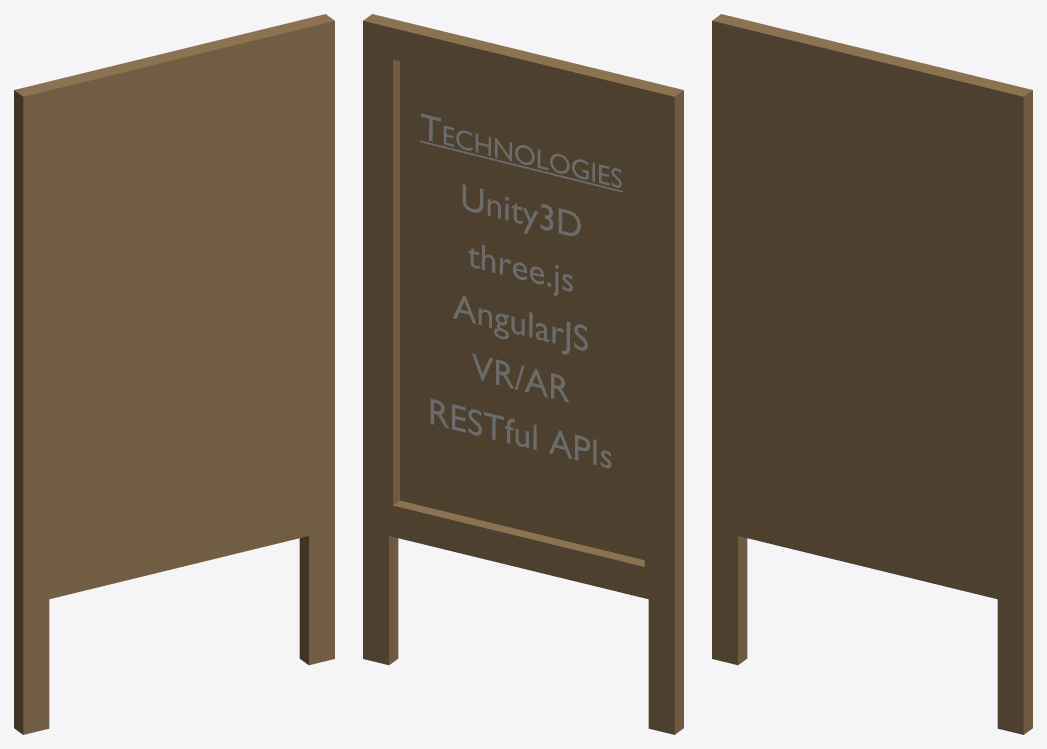
File: board2.gltf
The picture shows the model from 3 angles, left to right: view 1: azimuth 30°, elevation 25°; view 2: azimuth 150°, elevation 25°; view 3: azimuth 330°, elevation 25°; orthographic projection.
Parts seen in each view (by area): view 1: MenuBoardPoly; view 2: MenuBoardPoly, Text.003, Text; view 3: MenuBoardPoly.
Boxes of the visible parts, box(x1,y1,x2,y2) form: MenuBoardPoly: box(14, 14, 334, 734); MenuBoardPoly: box(363, 14, 683, 734); Text.003: box(430, 184, 611, 468); Text: box(420, 113, 622, 192); MenuBoardPoly: box(712, 14, 1032, 734).
Size of the model in its own units: 1.99 by 3.9 by 0.1026.
